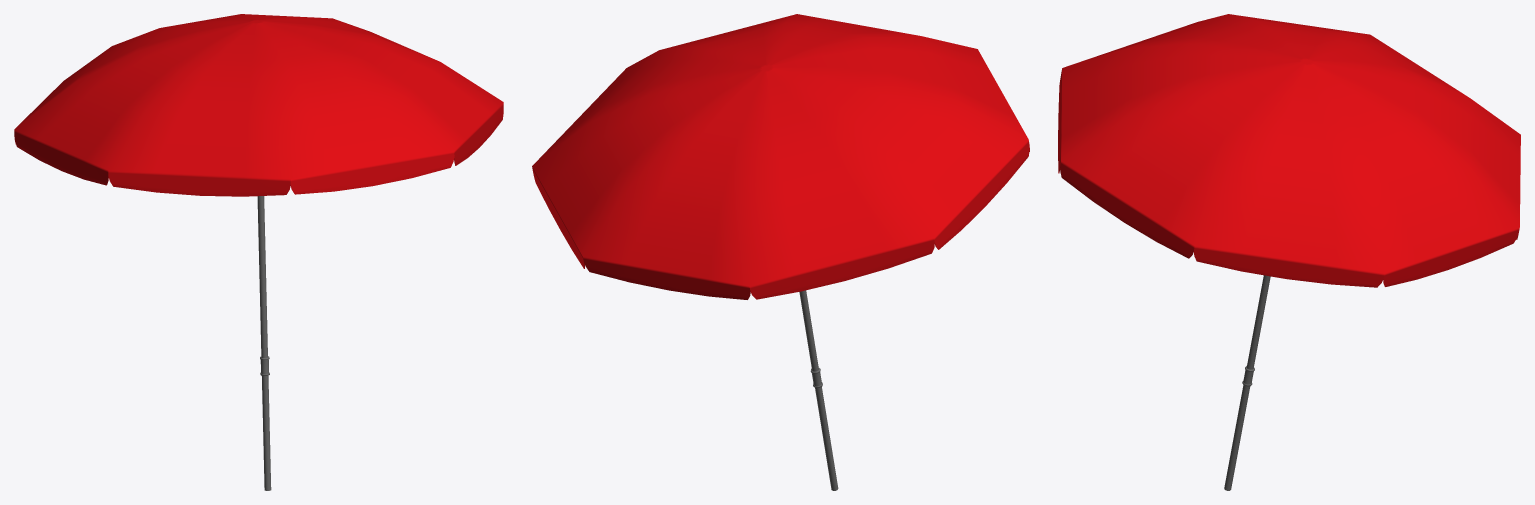
The model's file is BeachUmbrella_BeachWind_Animation 1.FBX.
3 renders of one model, left to right at view 1: azimuth 30°, elevation 25°; view 2: azimuth 150°, elevation 25°; view 3: azimuth 270°, elevation 25°, orthographic. The views are drawn at different scales.
Parts seen in each view (by area): view 1: Umbrella; view 2: Umbrella; view 3: Umbrella.
Part boxes in pixels (left/top/right/bottom): Umbrella: left=14, top=14, right=503, bottom=490; Umbrella: left=532, top=14, right=1029, bottom=490; Umbrella: left=1058, top=14, right=1520, bottom=490.
Size of the model in its own units: 116 by 122 by 116.
